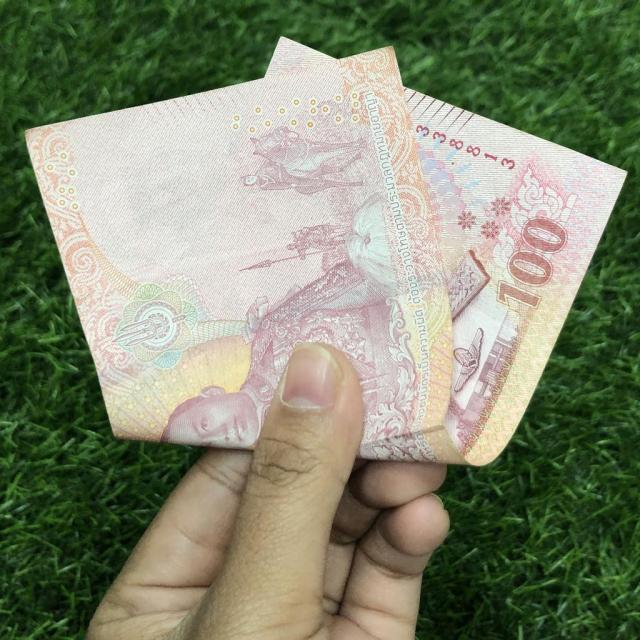THAI100: (27, 39, 622, 464)
